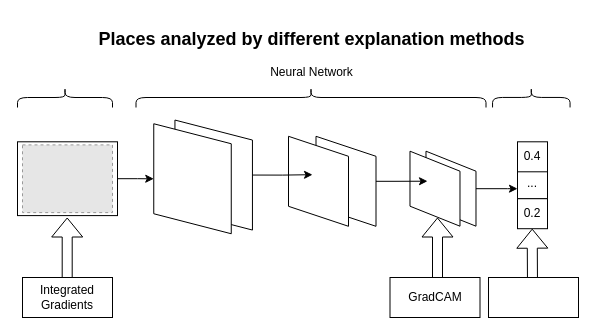
The diagram is 596 pixels wide and 335 high, and some of its shapes have lost their labels. Grey dashed boxes stand in for pictures. Here are the shapes that lost their labels. From the top down, the box of each, then its label:
(16, 86, 112, 108): Input Image
(492, 86, 570, 108): Prediction
(488, 276, 578, 318): KernelSHAP
